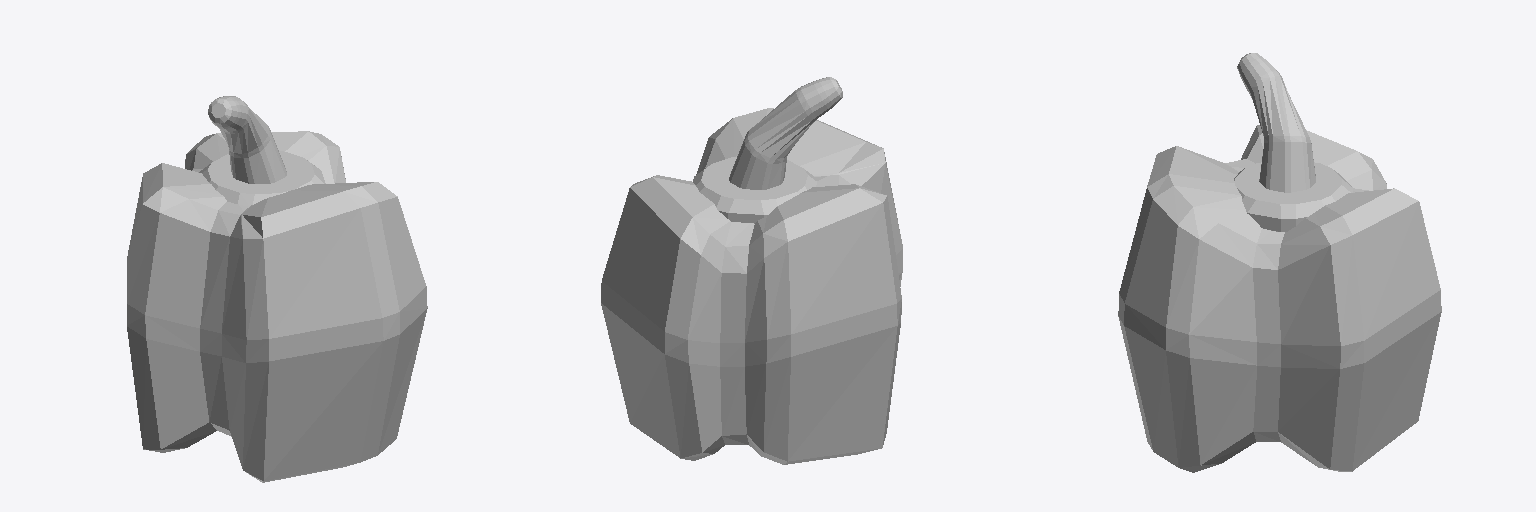
Rendered from bellPepper.obj.
3 views of the same model, side by side, from view 1: azimuth 30°, elevation 25°; view 2: azimuth 150°, elevation 25°; view 3: azimuth 270°, elevation 25° (orthographic).
Parts seen in each view (by area): view 1: bellPepper_geo; view 2: bellPepper_geo; view 3: bellPepper_geo.
Boxes of the visible parts, <box> form: bellPepper_geo: <box>127,96,427,482</box>; bellPepper_geo: <box>601,77,902,464</box>; bellPepper_geo: <box>1118,53,1441,472</box>.
Size of the model in its own units: 6.06 by 8.02 by 6.56.